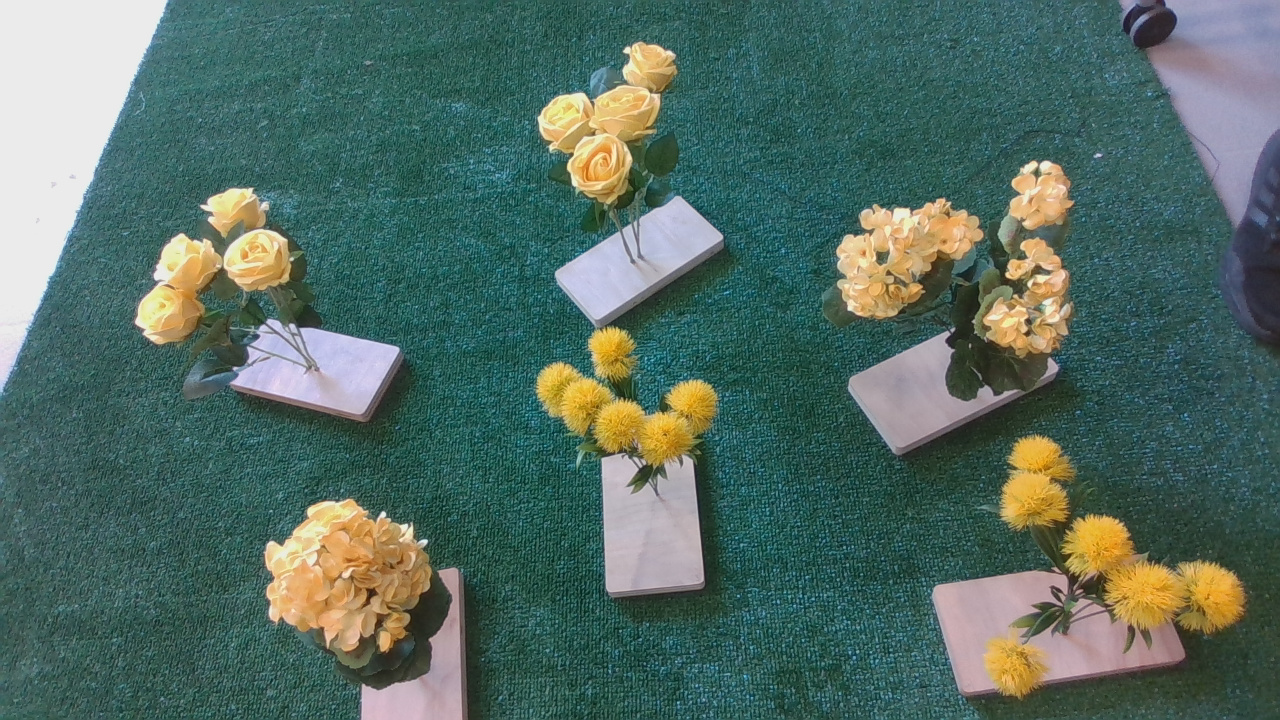dandelion: (983, 436, 1255, 705), (530, 333, 727, 481)
geranium: (831, 160, 1081, 393), (259, 497, 460, 699)
rose: (133, 189, 338, 401), (539, 38, 693, 240)
